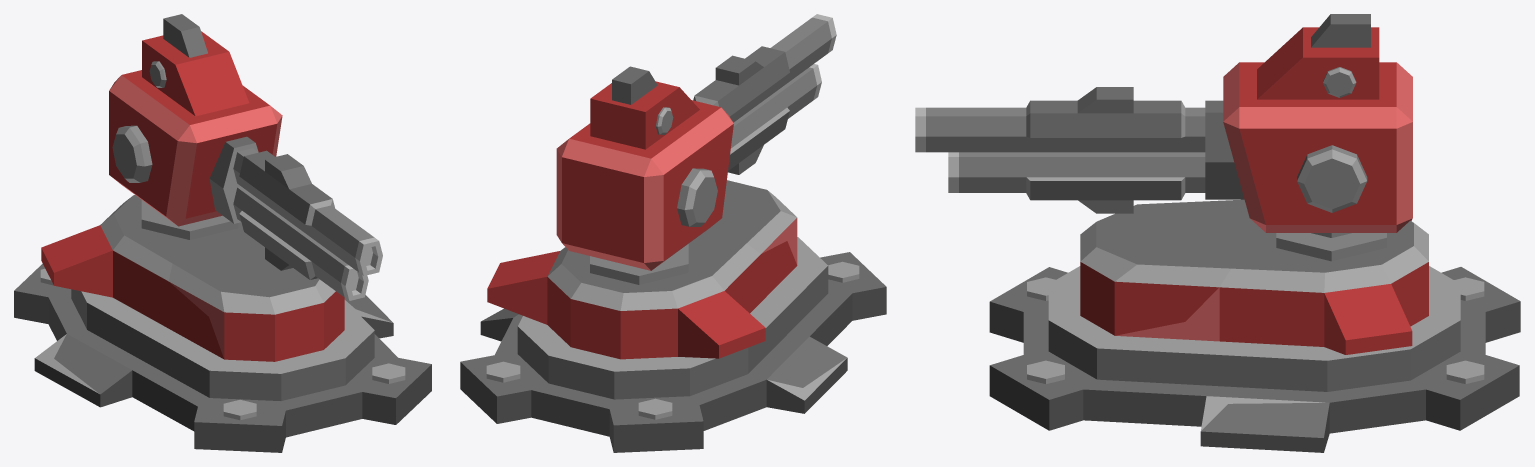
File: tower_lethal_red_3.fbx
3 renders of one model, left to right at view 1: azimuth 30°, elevation 25°; view 2: azimuth 150°, elevation 25°; view 3: azimuth 270°, elevation 25°, orthographic. The views are drawn at different scales.
Parts seen in each view (by area): view 1: tower_lethal_red_3, top_lethal_red_3; view 2: tower_lethal_red_3, top_lethal_red_3; view 3: tower_lethal_red_3, top_lethal_red_3.
Boxes of the visible parts, x1,y1,x2,y2 form: tower_lethal_red_3: (14,195,431,452); top_lethal_red_3: (109,14,382,300); tower_lethal_red_3: (460,180,886,452); top_lethal_red_3: (556,14,836,284); tower_lethal_red_3: (989,199,1520,452); top_lethal_red_3: (915,14,1412,261).
Bounding box in the file's own units: 159 × 144 × 229.
